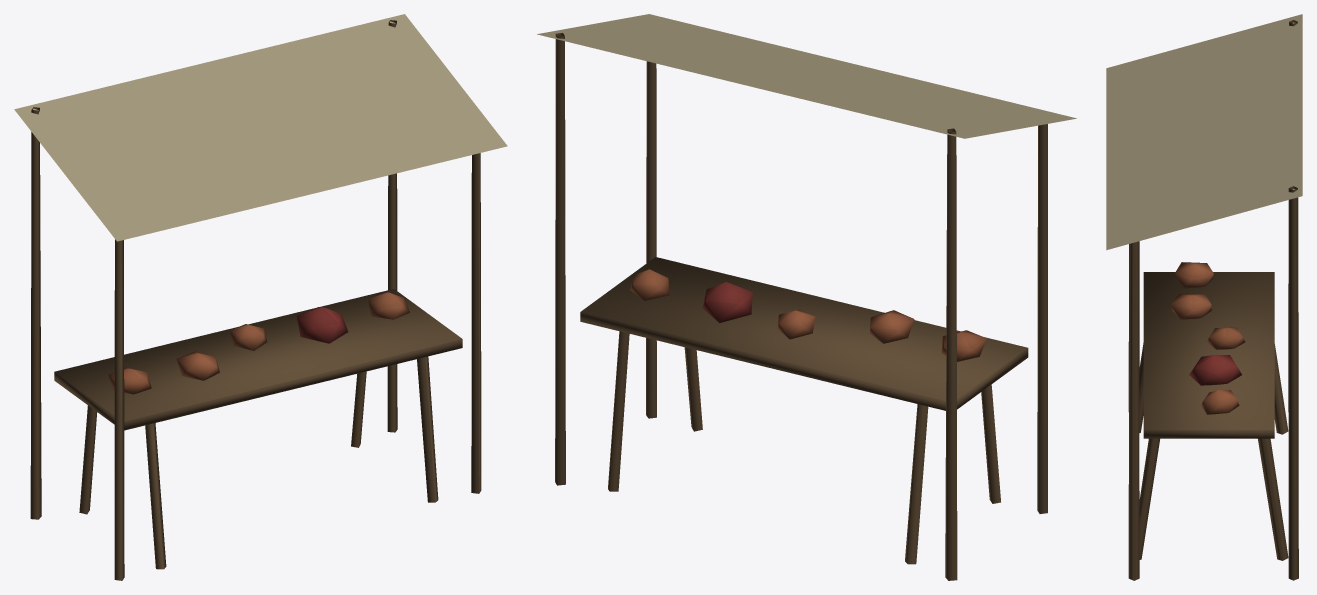
The model's file is banco.glb.
The picture shows the model from 3 angles, left to right: view 1: azimuth 30°, elevation 25°; view 2: azimuth 150°, elevation 25°; view 3: azimuth 270°, elevation 25°; orthographic projection. The views are drawn at different scales.
Visible parts, largest first — view 1: banco; view 2: banco; view 3: banco.
Part boxes in pixels (box(x1,y1,x2,y2)): banco: box(14, 14, 507, 580); banco: box(537, 14, 1076, 580); banco: box(1106, 14, 1302, 580).
Bounding box in the file's own units: 2.3 × 2.3 × 1.05.
